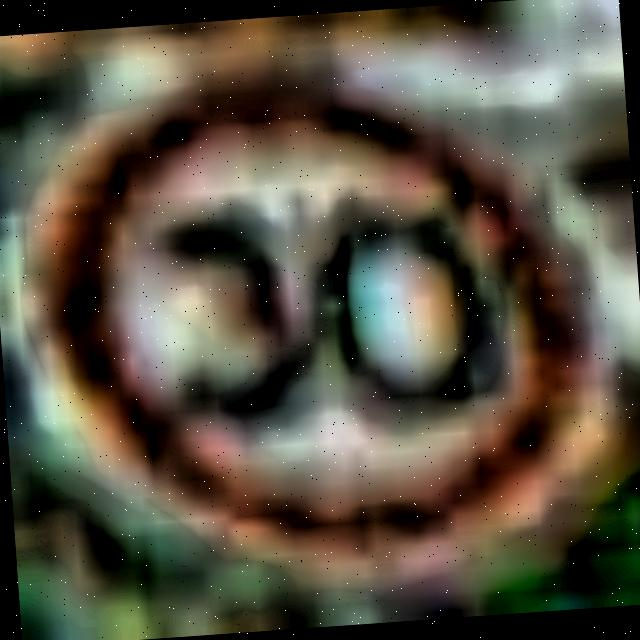speed_30: (41, 65, 604, 589)
